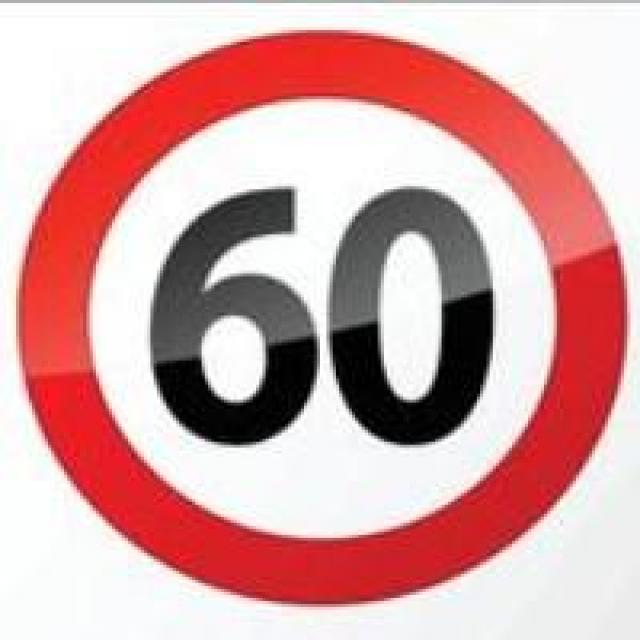Ograniczenie predkosci do 60: (13, 24, 624, 607)
